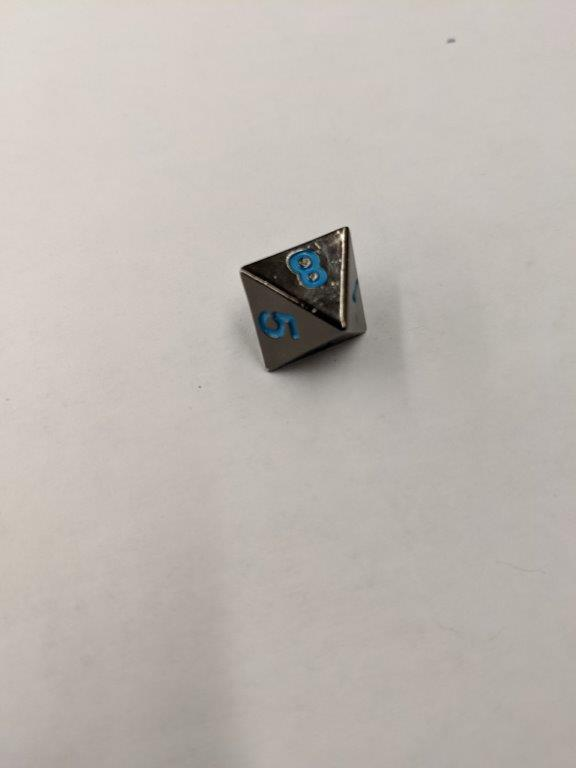d8-8: (241, 223, 370, 373)
